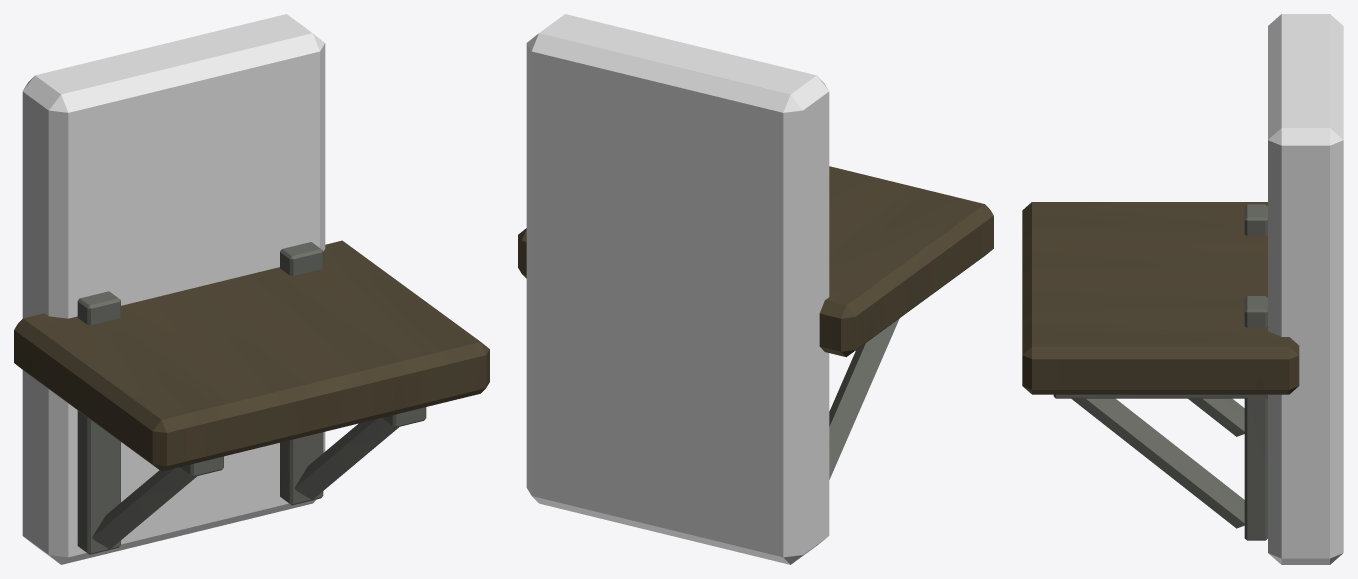
Rendered from WarrensC_CCS65_LanternRestSet_Mars_SM.fbx.
3 renders of one model, left to right at view 1: azimuth 30°, elevation 25°; view 2: azimuth 150°, elevation 25°; view 3: azimuth 270°, elevation 25°, orthographic. The views are drawn at different scales.
Parts seen in each view (by area): view 1: WarrensC_CCS65_LanternRestSet_Mars_SM.001; view 2: WarrensC_CCS65_LanternRestSet_Mars_SM.001; view 3: WarrensC_CCS65_LanternRestSet_Mars_SM.001.
Part boxes in pixels (box(x1,y1,x2,y2)): WarrensC_CCS65_LanternRestSet_Mars_SM.001: box(14, 14, 489, 564); WarrensC_CCS65_LanternRestSet_Mars_SM.001: box(518, 14, 993, 564); WarrensC_CCS65_LanternRestSet_Mars_SM.001: box(1022, 14, 1343, 564).
Size of the model in its own units: 45 by 40 by 60.
